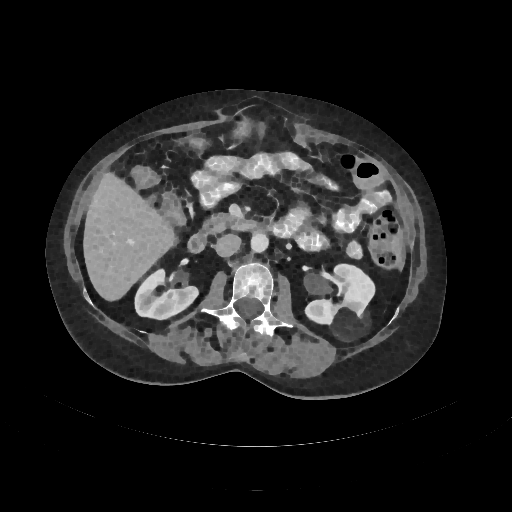Lesion: (329, 305, 376, 343)
